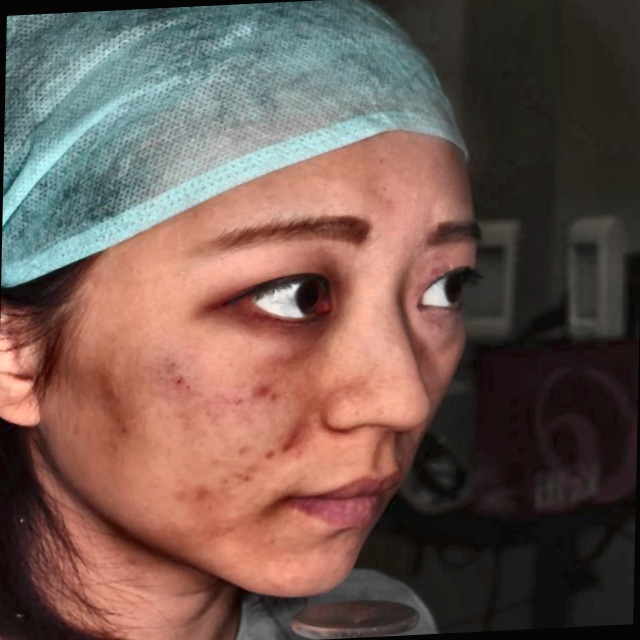comedone: (273, 427, 303, 456), (249, 381, 276, 408), (191, 479, 211, 510)
